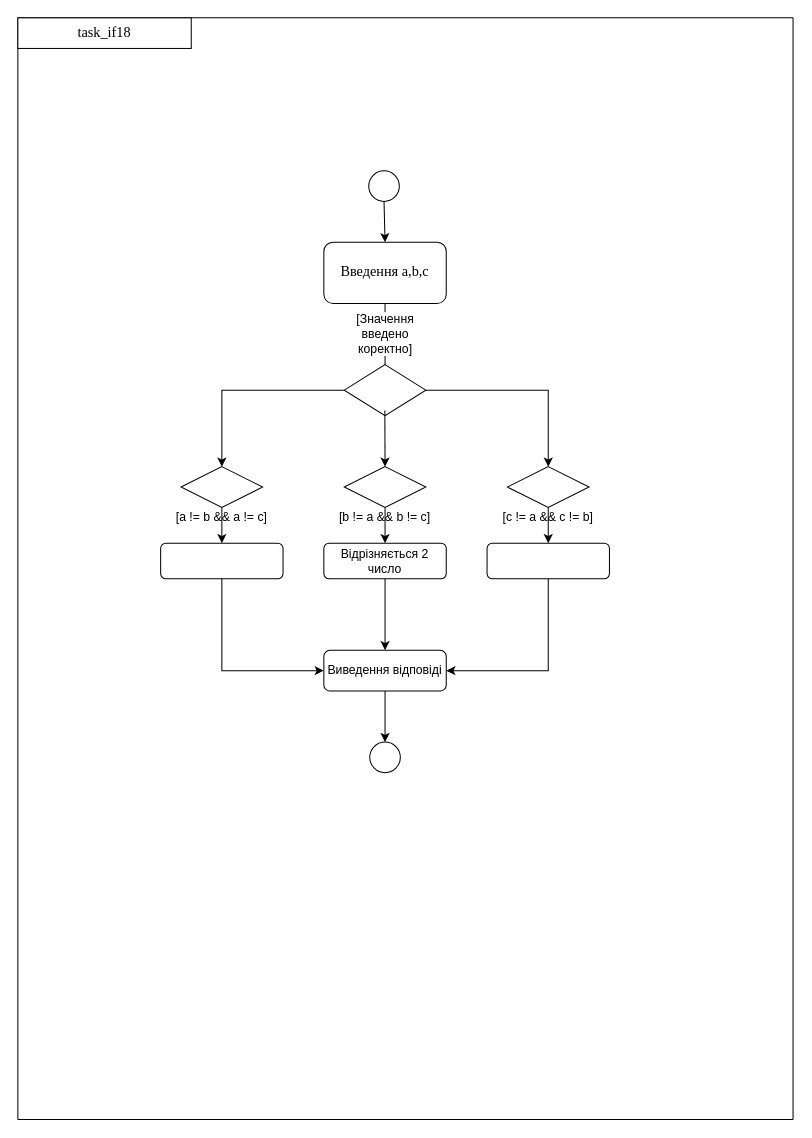
This 812x1138 diagram has some shape labels left out. The centre of each missing label's shape, as x and y in pixels:
"Відрізняється 1 число" goes at [221,560].
"Відрізняється 3 число" goes at [547,560].
